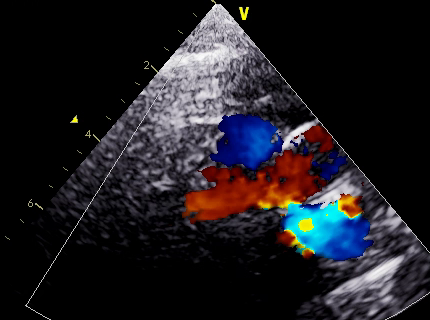AR: (184, 134, 316, 213)
